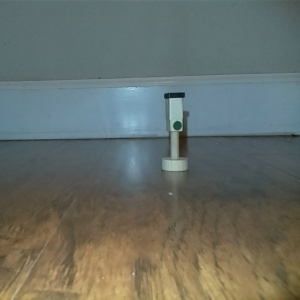traffic light green: (159, 90, 189, 174)
